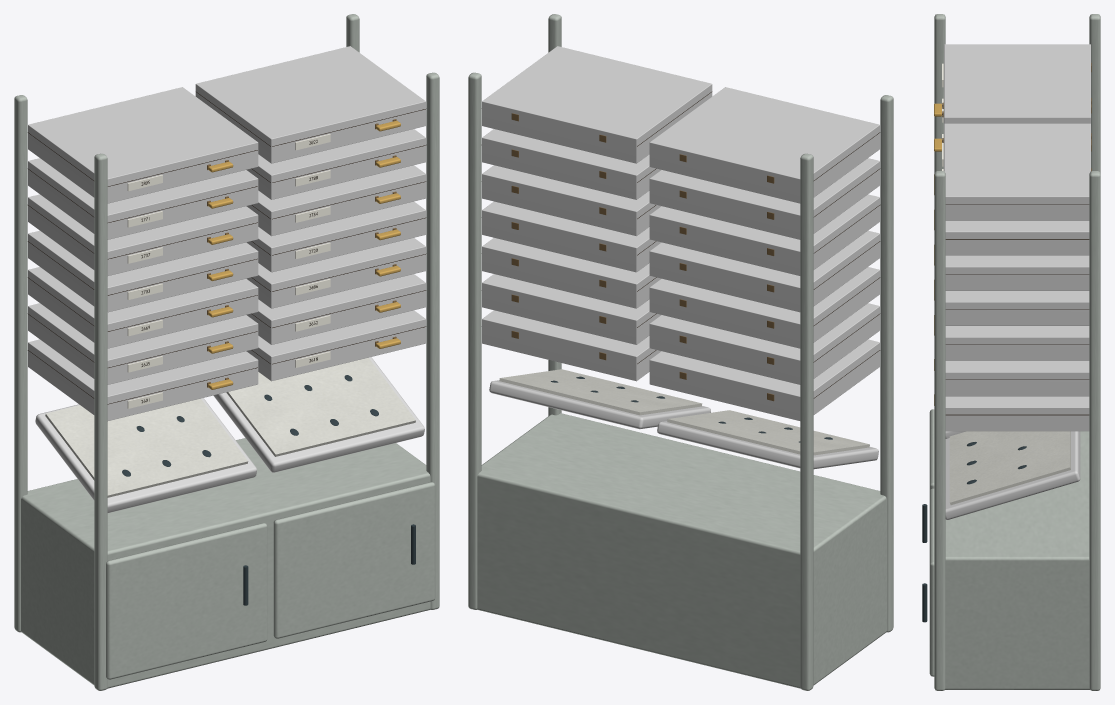
The model's file is SpecimenShelf.fbx.
The picture shows the model from 3 angles, left to right: view 1: azimuth 30°, elevation 25°; view 2: azimuth 150°, elevation 25°; view 3: azimuth 270°, elevation 25°; orthographic projection. The views are drawn at different scales.
Parts seen in each view (by area): view 1: Storage base, Door.001, Door, Specimen drawer.012, Specimen drawer.013, Tray lining, Tray lining.001, Specimen drawer.008, Specimen drawer.006, Specimen drawer.010, Specimen drawer, Specimen drawer.004 (+13 smaller); view 2: Storage base, Specimen drawer.012, Specimen drawer.013, Specimen drawer.004, Specimen drawer.006, Specimen drawer, Specimen drawer.008, Specimen drawer.010, Specimen drawer.002, Shelf upright.001, Shelf upright.003, Shelf upright (+13 smaller); view 3: Storage base, Specimen drawer.013, Specimen drawer.012, Tray lining.001, Shelf upright.002, Shelf upright.003, Specimen drawer.001, Specimen drawer.003, Specimen drawer.009, Specimen drawer.011, Specimen drawer.005, Specimen drawer.007 (+6 smaller).
Boxes of the visible parts, x1,y1,x2,y2 form: Storage base: (21,438,430,688); Door.001: (273,482,435,638); Door: (106,523,267,679); Specimen drawer.012: (28,87,258,203); Specimen drawer.013: (195,46,425,163); Tray lining: (45,398,248,497); Tray lining.001: (226,357,415,456); Specimen drawer.008: (28,194,258,275); Specimen drawer.006: (28,230,258,312); Specimen drawer.010: (28,158,258,239); Specimen drawer: (28,339,258,420); Specimen drawer.004: (28,267,258,348); Storage base: (477,413,886,688); Specimen drawer.012: (649,87,879,203); Specimen drawer.013: (482,46,712,163); Specimen drawer.004: (649,267,879,348); Specimen drawer.006: (649,230,879,312); Specimen drawer: (649,339,879,420); Specimen drawer.008: (649,194,879,275); Specimen drawer.010: (649,158,879,239); Specimen drawer.002: (649,303,879,384); Shelf upright.001: (800,153,813,690); Shelf upright.003: (468,72,481,609); Shelf upright: (880,95,893,632); Storage base: (945,431,1089,689); Specimen drawer.013: (944,123,1090,220); Specimen drawer.012: (944,44,1090,123); Tray lining.001: (949,431,1070,505); Shelf upright.002: (934,171,945,690); Shelf upright.003: (1089,171,1100,690); Specimen drawer.001: (945,396,1089,431); Specimen drawer.003: (945,361,1089,396); Specimen drawer.009: (945,255,1089,290); Specimen drawer.011: (945,220,1089,255); Specimen drawer.005: (945,326,1089,360); Specimen drawer.007: (945,291,1089,325).
Size of the model in its own units: 1.88 by 2.8 by 0.8745.
